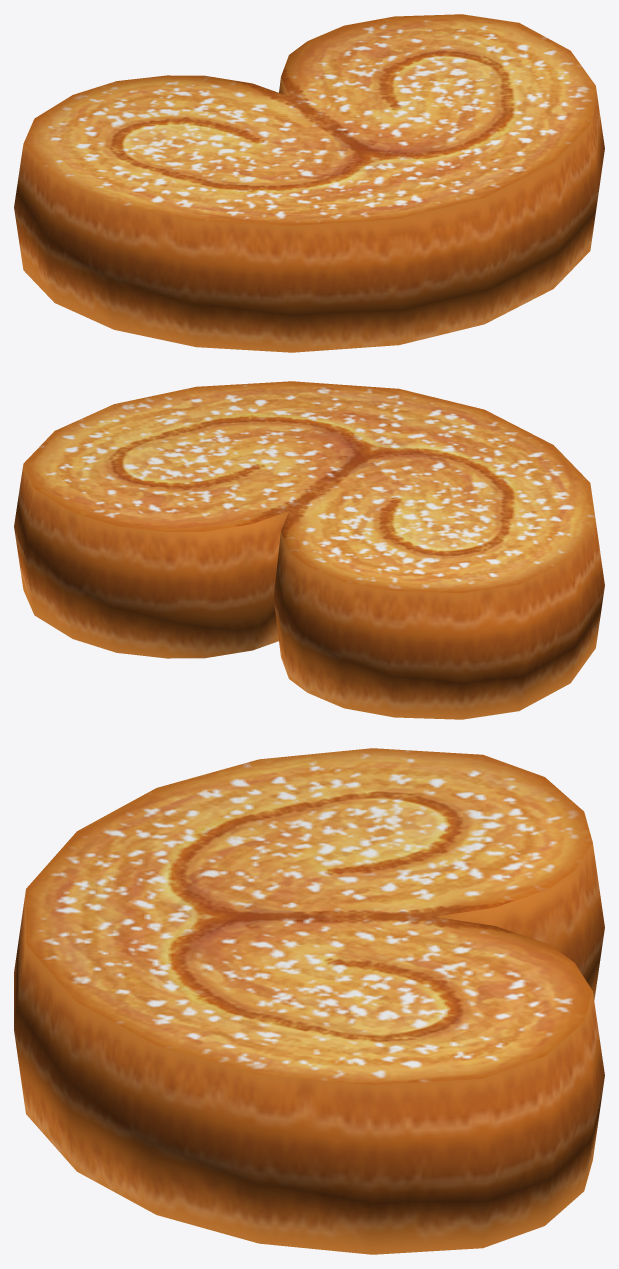
The model's file is 009-Palmiers1.FBX.
3 renders of one model, top to bottom at view 1: azimuth 30°, elevation 25°; view 2: azimuth 150°, elevation 25°; view 3: azimuth 270°, elevation 25°, orthographic. The views are drawn at different scales.
Visible parts, largest first — view 1: 009-Palmiers1; view 2: 009-Palmiers1; view 3: 009-Palmiers1.
Part boxes in pixels (left/top/right/bottom): 009-Palmiers1: left=14, top=14, right=604, bottom=352; 009-Palmiers1: left=14, top=381, right=604, bottom=719; 009-Palmiers1: left=14, top=748, right=604, bottom=1254.
Size of the model in its own units: 16.35 by 3.72 by 11.75.
